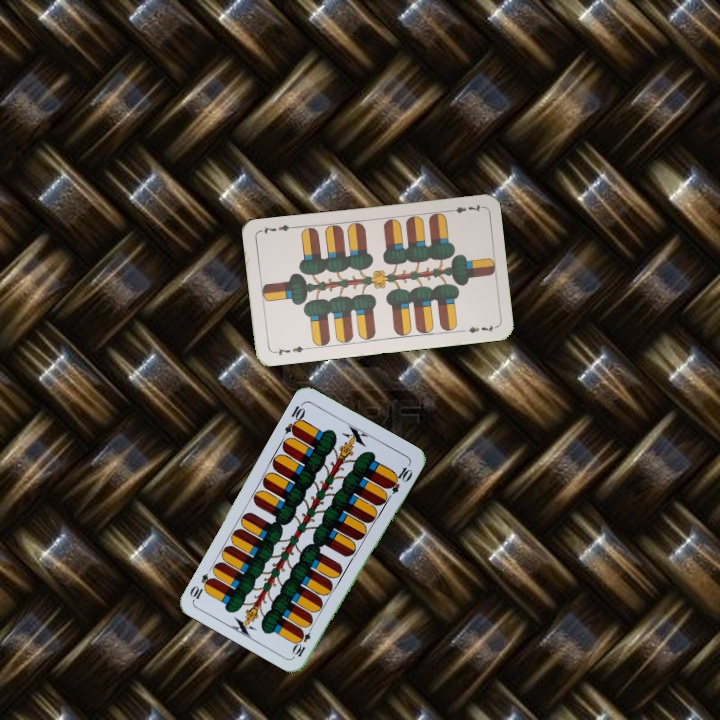E10: (280, 399, 308, 438), (290, 620, 316, 659)
E7: (270, 342, 310, 358), (444, 200, 484, 216)
